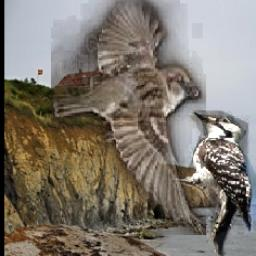Sparrow: (52, 0, 207, 235)
Woodpecker: (171, 108, 256, 256)
